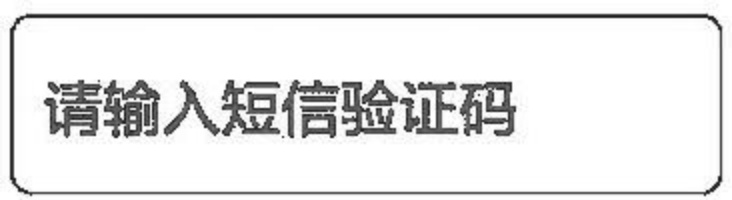EditText: (1, 1, 731, 199)
